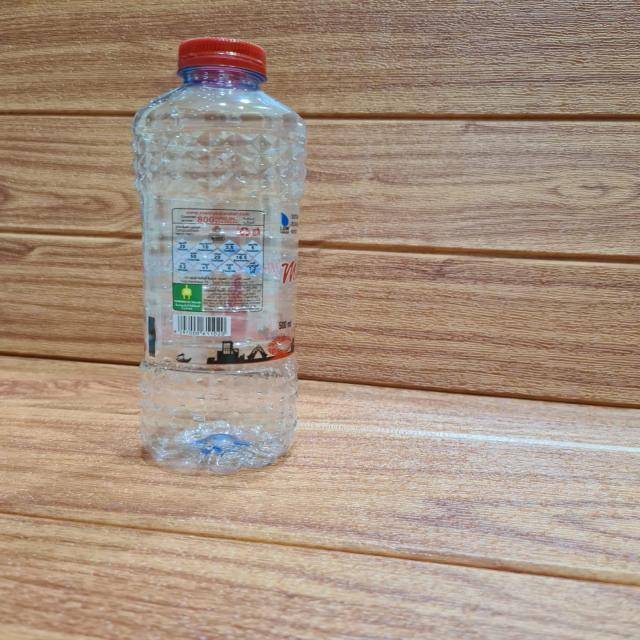bottle: (123, 32, 301, 486)
